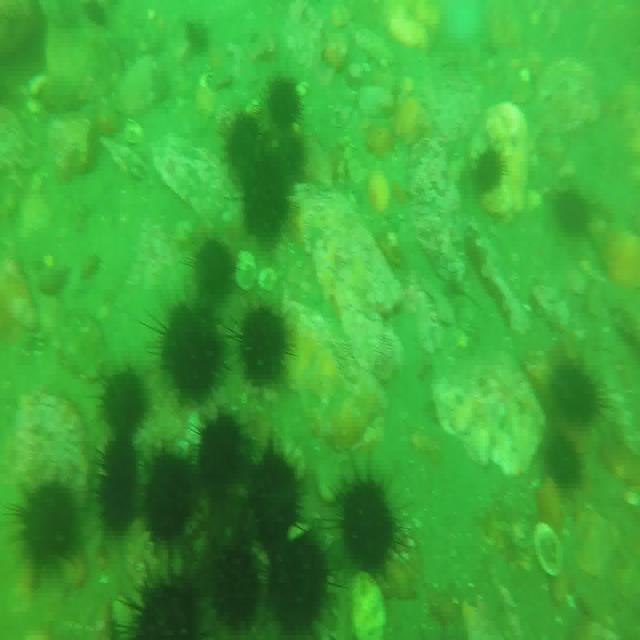echinus: (154, 300, 226, 408), (338, 474, 404, 583), (269, 530, 331, 640), (15, 478, 84, 576), (204, 531, 266, 640), (141, 449, 199, 558), (246, 446, 305, 550), (121, 569, 202, 640), (236, 300, 290, 387), (94, 437, 140, 537), (196, 417, 245, 501), (243, 149, 287, 242), (187, 230, 235, 313), (553, 354, 602, 432), (98, 367, 144, 440), (223, 114, 266, 180), (261, 76, 303, 134), (548, 426, 585, 490), (552, 187, 592, 239), (271, 128, 305, 186), (474, 148, 507, 195)
scallop: (347, 572, 389, 640), (532, 519, 564, 579), (233, 252, 260, 294), (260, 264, 281, 294)
